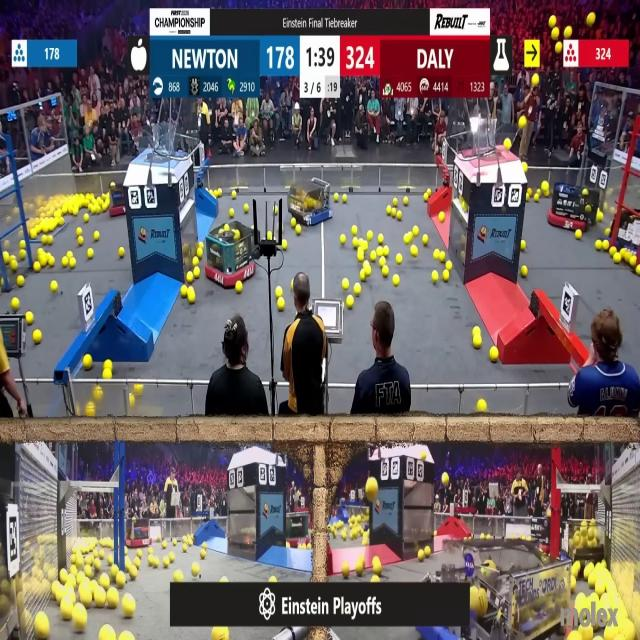ball_airborne: (365, 479, 377, 501), (588, 12, 596, 25), (552, 28, 560, 41), (550, 15, 558, 28), (564, 28, 572, 40), (421, 446, 428, 459), (519, 116, 527, 127), (503, 138, 510, 150), (532, 74, 539, 86), (443, 472, 450, 484), (556, 42, 563, 52), (523, 163, 528, 174)
ball_ground: (74, 608, 86, 634), (124, 596, 136, 618), (107, 590, 118, 609), (61, 602, 73, 619), (95, 591, 107, 608), (100, 627, 114, 640), (80, 591, 91, 606), (115, 572, 125, 587), (100, 574, 110, 587), (374, 559, 382, 575), (490, 348, 499, 362), (83, 354, 91, 369), (343, 562, 351, 577), (55, 586, 63, 601), (87, 405, 96, 418), (34, 331, 42, 345), (478, 398, 486, 412), (363, 264, 371, 277), (356, 560, 363, 574), (570, 579, 577, 593), (191, 563, 199, 575), (472, 337, 480, 349), (236, 282, 244, 294), (120, 632, 132, 640), (27, 312, 34, 325), (61, 569, 68, 582), (103, 368, 112, 378), (629, 255, 637, 266), (354, 283, 361, 295), (347, 295, 354, 307), (187, 290, 194, 302), (276, 286, 283, 298), (11, 297, 18, 309), (131, 566, 138, 578), (540, 182, 548, 192), (134, 384, 142, 394), (16, 276, 23, 287), (186, 273, 193, 284), (88, 248, 95, 259), (69, 257, 76, 268), (175, 570, 182, 581), (403, 234, 410, 245), (62, 256, 69, 267), (95, 559, 102, 570), (278, 300, 284, 312), (4, 252, 10, 264), (357, 250, 363, 262), (471, 326, 479, 335), (40, 252, 46, 264), (596, 241, 603, 251), (34, 264, 41, 274), (444, 272, 451, 282), (395, 254, 402, 264), (369, 251, 376, 261), (164, 558, 171, 568), (180, 286, 187, 296), (615, 253, 622, 263), (382, 268, 389, 278), (18, 250, 25, 260), (418, 552, 425, 562), (413, 225, 420, 235), (596, 212, 603, 222), (87, 566, 94, 576), (396, 210, 403, 220), (50, 281, 56, 292), (522, 267, 528, 278), (432, 272, 438, 283), (393, 275, 399, 286), (424, 545, 430, 556), (370, 574, 378, 582), (270, 575, 278, 583), (105, 359, 112, 368), (602, 241, 609, 250), (412, 246, 418, 256), (343, 279, 349, 289), (366, 232, 372, 242), (380, 256, 386, 266), (193, 269, 199, 279), (78, 236, 84, 246), (47, 256, 53, 266), (94, 232, 100, 242), (440, 212, 446, 222), (10, 262, 16, 272), (341, 235, 347, 245), (152, 557, 158, 567), (170, 553, 176, 563), (108, 556, 114, 566), (362, 240, 368, 250), (434, 249, 439, 260), (352, 239, 358, 248), (290, 218, 296, 227), (343, 193, 349, 202), (335, 192, 341, 201), (41, 236, 47, 245), (123, 560, 129, 569), (72, 207, 78, 216), (575, 231, 580, 241), (118, 248, 123, 258), (295, 224, 300, 234), (352, 224, 357, 234), (521, 241, 526, 251), (360, 272, 365, 282), (384, 247, 389, 257), (423, 236, 428, 246), (447, 262, 452, 272), (136, 558, 141, 568), (441, 251, 446, 261), (342, 533, 347, 543), (402, 198, 408, 206), (244, 205, 250, 213), (18, 241, 24, 249), (191, 257, 197, 265), (268, 232, 274, 240), (362, 538, 368, 546), (608, 247, 614, 255), (195, 249, 201, 257), (604, 230, 610, 238), (282, 241, 287, 250), (379, 235, 384, 244), (387, 207, 392, 216), (228, 208, 233, 217), (378, 247, 383, 256), (47, 236, 52, 245), (220, 575, 226, 582), (76, 227, 82, 234), (182, 543, 188, 550), (196, 260, 202, 267), (392, 200, 397, 208), (636, 266, 640, 276), (67, 250, 72, 258), (537, 195, 542, 203), (0, 278, 4, 288), (217, 188, 222, 196), (392, 209, 396, 219), (137, 550, 142, 558), (543, 189, 548, 197), (202, 551, 206, 560), (172, 538, 178, 544), (286, 542, 292, 548), (275, 207, 280, 214), (424, 193, 428, 201), (84, 214, 88, 222), (234, 190, 238, 198), (123, 546, 127, 554), (164, 540, 168, 547), (528, 187, 532, 194), (204, 541, 208, 548), (290, 280, 293, 289), (148, 546, 152, 552), (433, 530, 436, 536)
goal: (465, 124, 519, 160), (130, 130, 188, 160)
robot_blue: (472, 540, 576, 640), (288, 179, 334, 228)
robot_red: (203, 223, 255, 286), (548, 175, 600, 230), (282, 511, 308, 546), (127, 518, 153, 547), (107, 184, 125, 218)
